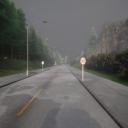speed_limit_90: (80, 57, 86, 65)
